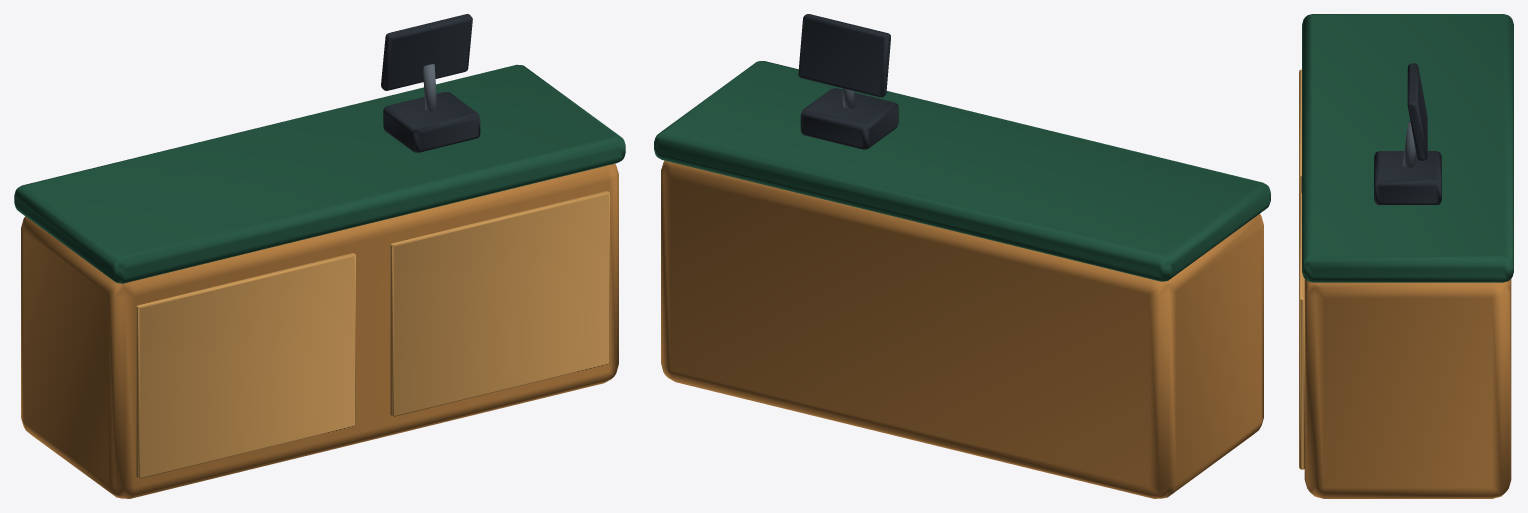
File: shelter-reception.glb
3 renders of one model, left to right at view 1: azimuth 30°, elevation 25°; view 2: azimuth 150°, elevation 25°; view 3: azimuth 270°, elevation 25°, orthographic.
Parts seen in each view (by area): view 1: interior_1_woodLight.002, interior_1_trim.001, interior_1_wood.003, interior_1_dark.001; view 2: interior_1_wood.003, interior_1_trim.001, interior_1_dark.001; view 3: interior_1_trim.001, interior_1_wood.003, interior_1_dark.001, interior_1_woodLight.002, interior_1_metal.002.
Part boxes in pixels (x1,y1,x2,y2): interior_1_woodLight.002: [136, 191, 609, 478]; interior_1_trim.001: [14, 64, 625, 283]; interior_1_wood.003: [21, 163, 618, 498]; interior_1_dark.001: [381, 14, 480, 152]; interior_1_wood.003: [661, 160, 1263, 498]; interior_1_trim.001: [654, 61, 1270, 281]; interior_1_dark.001: [798, 14, 898, 149]; interior_1_trim.001: [1302, 14, 1513, 282]; interior_1_wood.003: [1304, 279, 1511, 498]; interior_1_dark.001: [1374, 63, 1441, 204]; interior_1_woodLight.002: [1299, 69, 1304, 469]; interior_1_metal.002: [1402, 121, 1416, 167].
Size of the model in its own units: 2.42 by 1.6 by 0.8825.
